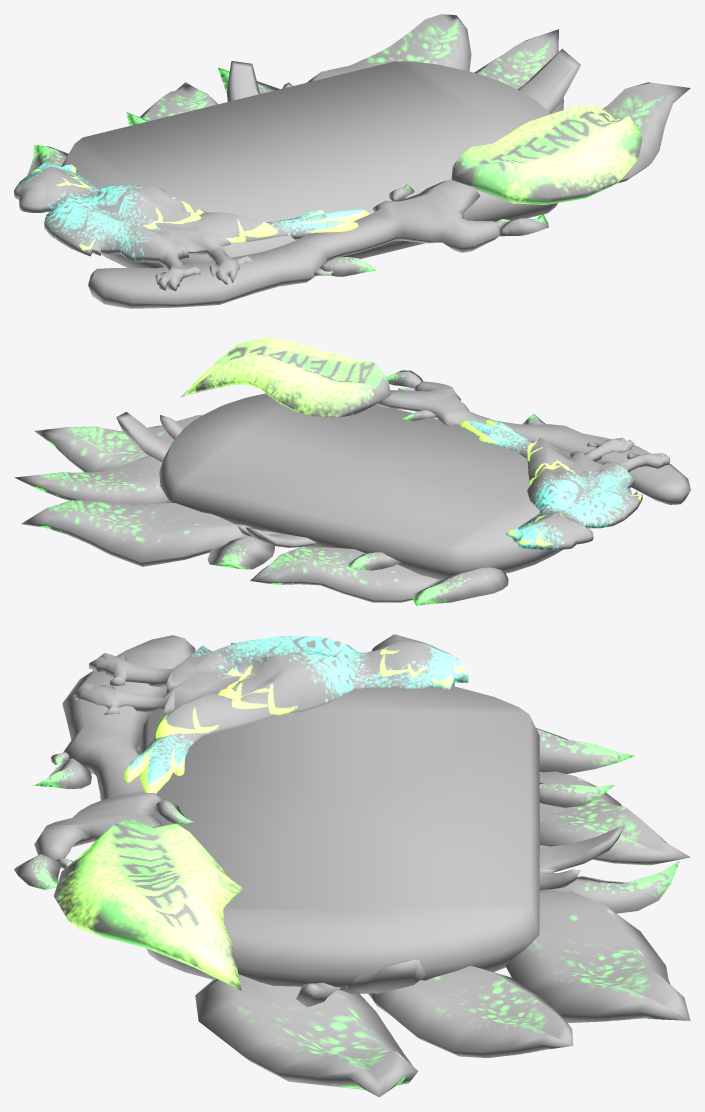
The model's file is Attendee.fbx.
3 views of the same model, one above another, from view 1: azimuth 30°, elevation 25°; view 2: azimuth 150°, elevation 25°; view 3: azimuth 270°, elevation 25° (orthographic). The views are drawn at different scales.
Parts seen in each view (by area): view 1: Attendee; view 2: Attendee; view 3: Attendee.
Boxes of the visible parts, x1=… form: Attendee: x1=14, y1=14, x2=690, y2=308; Attendee: x1=14, y1=337, x2=690, y2=605; Attendee: x1=14, y1=634, x2=690, y2=1097.
Size of the model in its own units: 51.75 by 7.91 by 35.57.
